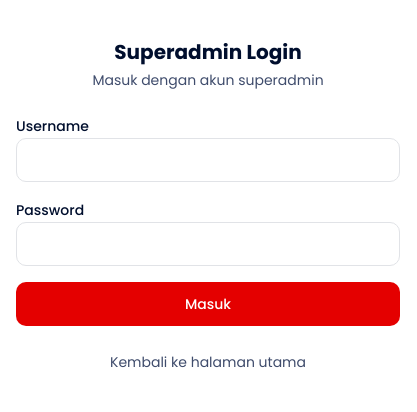
Test: SuperadminSection - login gate › shows login error when fetch fails
In the field labelled "Username": [208, 160] box [16,138,400,182], type "admin"
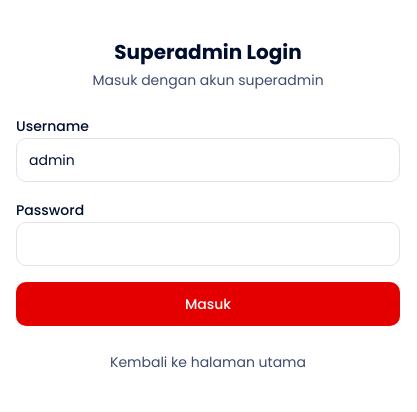
In the password field labelled "Password": [208, 244] box [16,222,400,266], type "password"
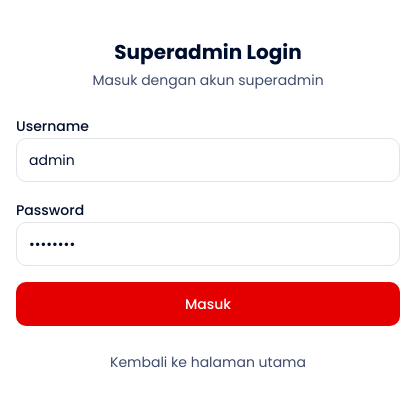
Submit the form "Masuk", box [16,114,400,326]
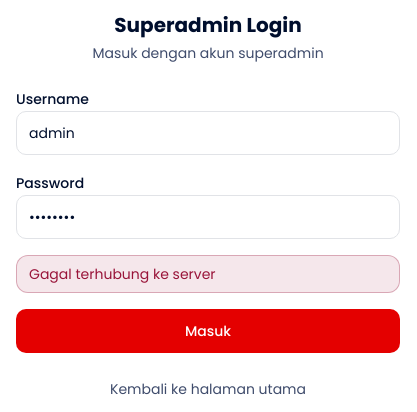
Now the text "Gagal terhubung ke server" is shown, box [29,264,216,284]
